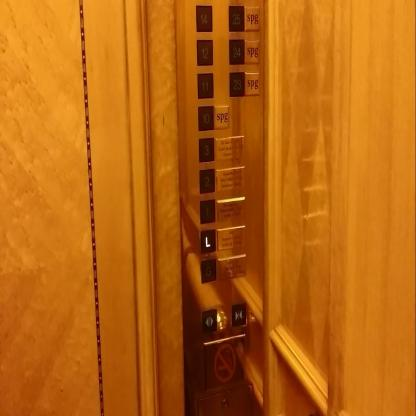1: (199, 197, 216, 224)
10: (197, 104, 214, 132)
11: (196, 71, 213, 99)
12: (195, 37, 214, 66)
14: (195, 3, 212, 33)
2: (198, 166, 215, 194)
23: (228, 70, 246, 97)
24: (228, 36, 245, 66)
25: (227, 4, 245, 32)
3: (198, 135, 214, 163)
G: (199, 256, 216, 284)
L: (199, 226, 216, 254)
close: (230, 300, 247, 328)
open: (201, 306, 217, 334)
